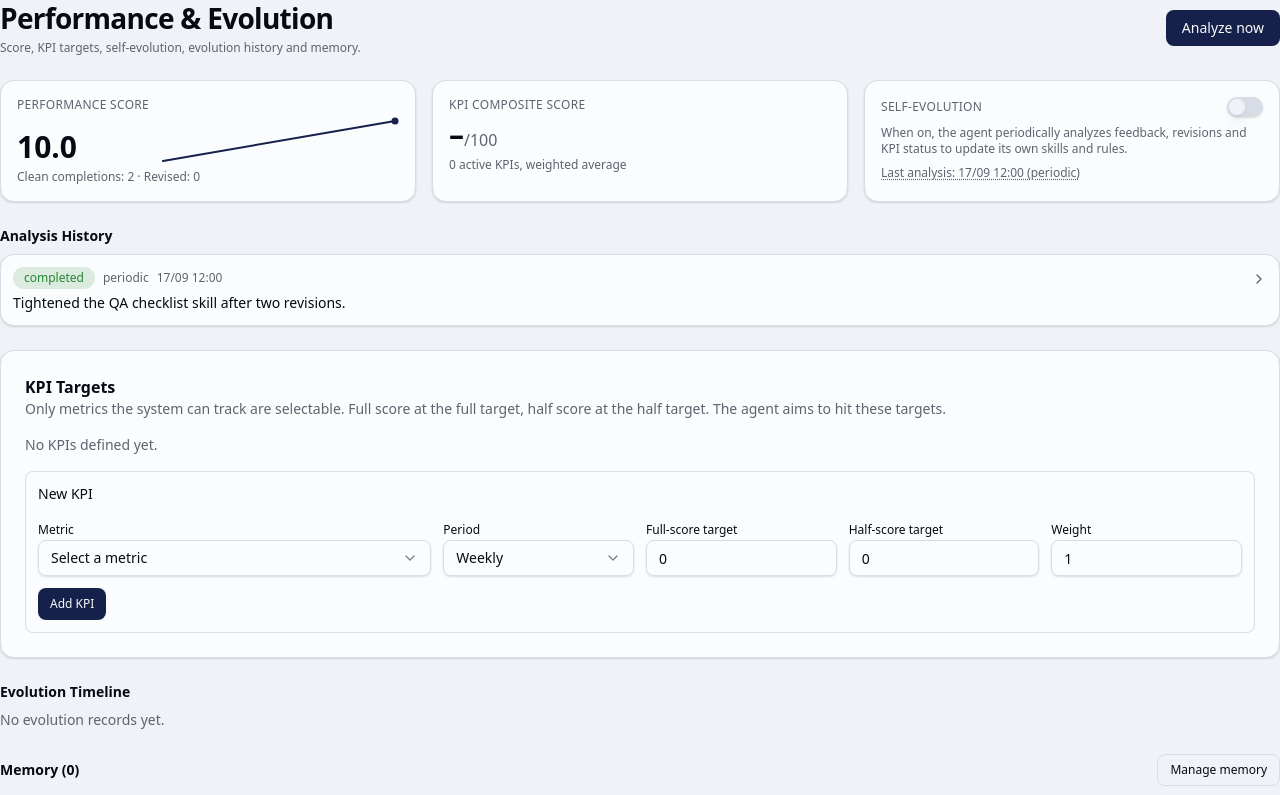
Test: AgentPerformancePage reflection with no changes › renders the history and the detail dialog instead of crashing
Click the text "Tightened the QA checklist skill after two revisions.". click: x=179, y=302
box: [13,293,346,312]
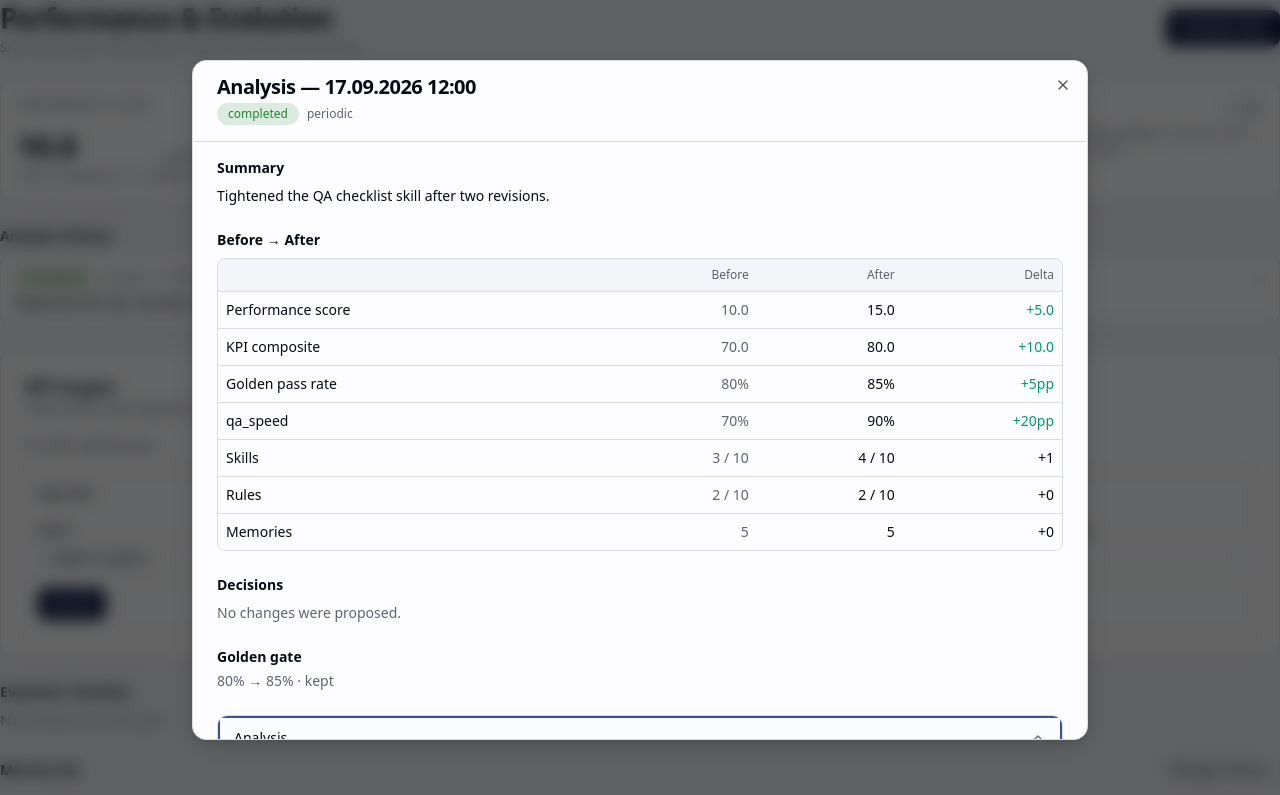
Expected: the text "Performance score" is shown, [218,292,608,328]
